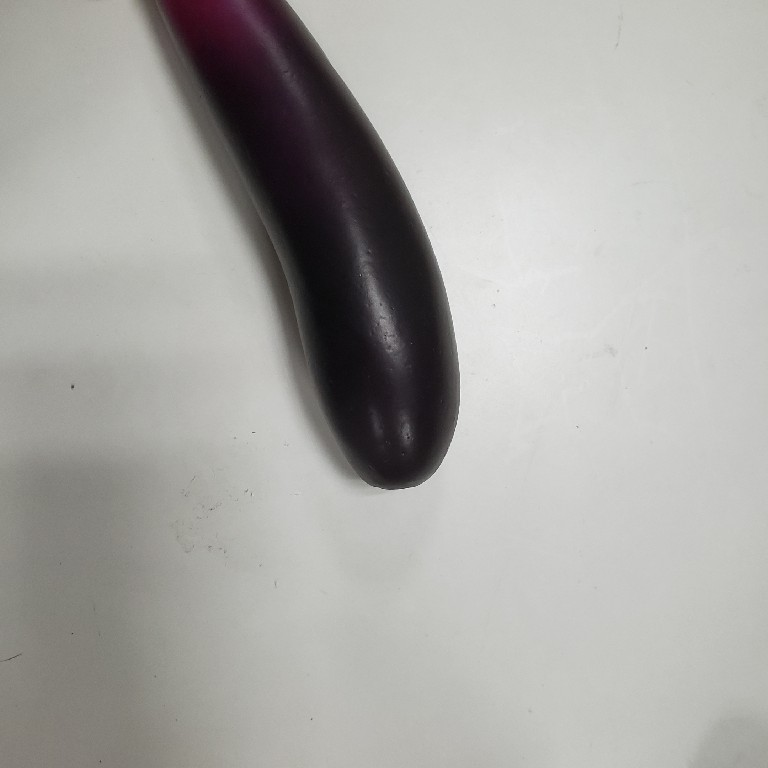fruit_eggplant: (139, 1, 465, 496)
